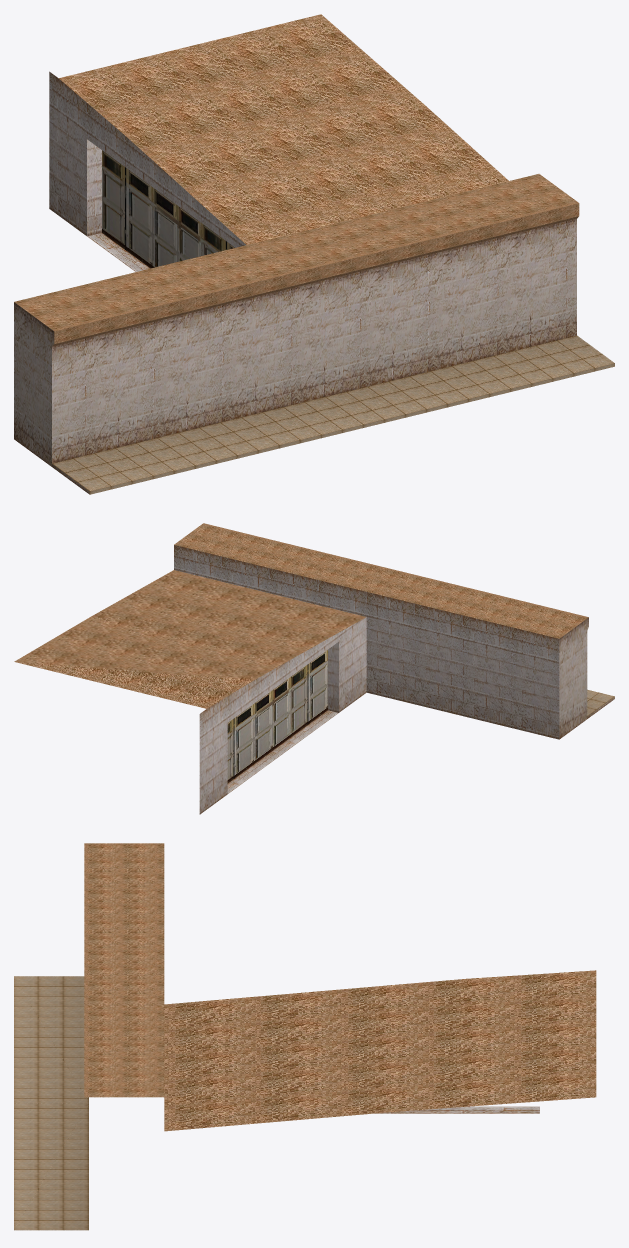
Rendered from M2Zone4_Building15_G.glb.
3 renders of one model, top to bottom at view 1: azimuth 30°, elevation 25°; view 2: azimuth 150°, elevation 25°; view 3: azimuth 270°, elevation 25°, orthographic. The views are drawn at different scales.
Visible parts, largest first — view 1: M2ZONE4_BUILDING15_G; view 2: M2ZONE4_BUILDING15_G; view 3: M2ZONE4_BUILDING15_G.
Part boxes in pixels (x1,y1,x2,y2): M2ZONE4_BUILDING15_G: (14,14,614,494); M2ZONE4_BUILDING15_G: (14,523,614,814); M2ZONE4_BUILDING15_G: (14,843,596,1230).
Size of the model in its own units: 16 by 4 by 16.
Materials: 5 (5 with a texture image).
